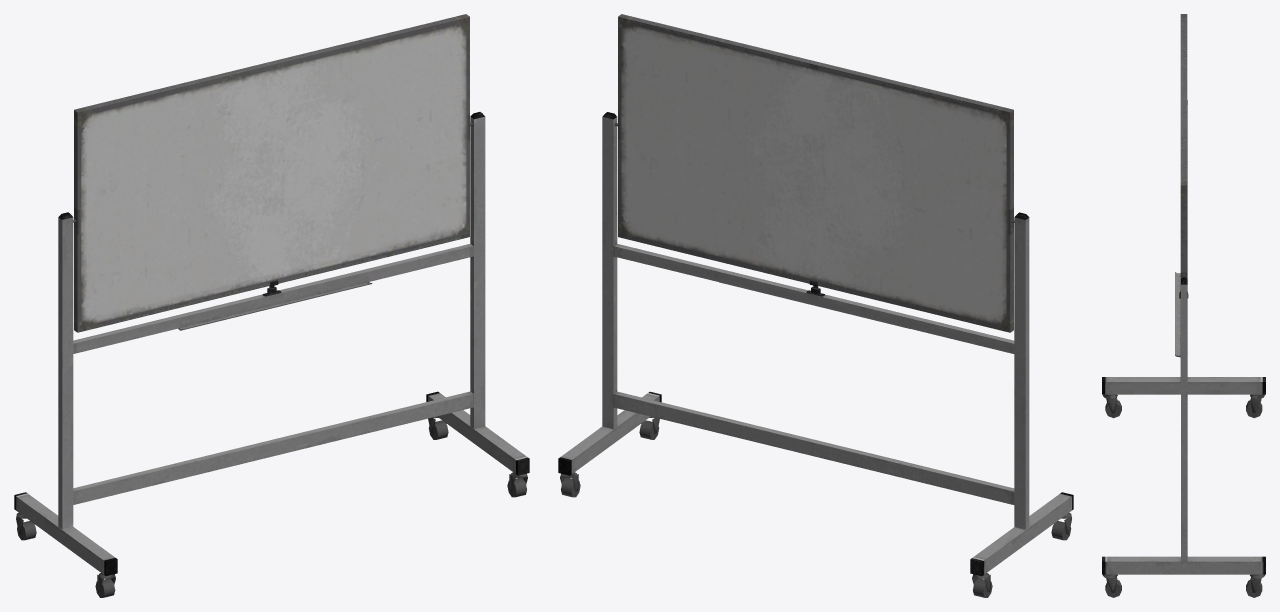
The model's file is 054_WhiteBoard.fbx.
3 views of the same model, side by side, from view 1: azimuth 30°, elevation 25°; view 2: azimuth 150°, elevation 25°; view 3: azimuth 270°, elevation 25° (orthographic). The views are drawn at different scales.
Parts seen in each view (by area): view 1: LOD_1_Group_0_Sub_1__sm30_054_WhiteBoard01A_A_Mat, LOD_1_Group_3_Sub_1__sm30_054_WhiteBoard01A_A_Mat, LOD_1_Group_2_Sub_1__sm30_054_WhiteBoard01A_A_Mat, LOD_1_Group_4_Sub_1__sm30_054_WhiteBoard01A_A_Mat, LOD_1_Group_5_Sub_1__sm30_054_WhiteBoard01A_A_Mat, LOD_1_Group_1_Sub_1__sm30_054_WhiteBoard01A_A_Mat; view 2: LOD_1_Group_0_Sub_1__sm30_054_WhiteBoard01A_A_Mat, LOD_1_Group_3_Sub_1__sm30_054_WhiteBoard01A_A_Mat, LOD_1_Group_2_Sub_1__sm30_054_WhiteBoard01A_A_Mat, LOD_1_Group_4_Sub_1__sm30_054_WhiteBoard01A_A_Mat, LOD_1_Group_5_Sub_1__sm30_054_WhiteBoard01A_A_Mat; view 3: LOD_1_Group_4_Sub_1__sm30_054_WhiteBoard01A_A_Mat, LOD_1_Group_0_Sub_1__sm30_054_WhiteBoard01A_A_Mat, LOD_1_Group_2_Sub_1__sm30_054_WhiteBoard01A_A_Mat, LOD_1_Group_6_Sub_1__sm30_054_WhiteBoard01A_A_Mat, LOD_1_Group_5_Sub_1__sm30_054_WhiteBoard01A_A_Mat, LOD_1_Group_1_Sub_1__sm30_054_WhiteBoard01A_A_Mat.
Part boxes in pixels (bbox=[...]): LOD_1_Group_0_Sub_1__sm30_054_WhiteBoard01A_A_Mat: bbox=[74, 14, 469, 332]; LOD_1_Group_3_Sub_1__sm30_054_WhiteBoard01A_A_Mat: bbox=[73, 243, 473, 504]; LOD_1_Group_2_Sub_1__sm30_054_WhiteBoard01A_A_Mat: bbox=[58, 112, 485, 529]; LOD_1_Group_4_Sub_1__sm30_054_WhiteBoard01A_A_Mat: bbox=[14, 391, 529, 575]; LOD_1_Group_5_Sub_1__sm30_054_WhiteBoard01A_A_Mat: bbox=[17, 420, 526, 597]; LOD_1_Group_1_Sub_1__sm30_054_WhiteBoard01A_A_Mat: bbox=[73, 122, 472, 330]; LOD_1_Group_0_Sub_1__sm30_054_WhiteBoard01A_A_Mat: bbox=[618, 14, 1013, 332]; LOD_1_Group_3_Sub_1__sm30_054_WhiteBoard01A_A_Mat: bbox=[613, 244, 1014, 504]; LOD_1_Group_2_Sub_1__sm30_054_WhiteBoard01A_A_Mat: bbox=[602, 112, 1029, 529]; LOD_1_Group_4_Sub_1__sm30_054_WhiteBoard01A_A_Mat: bbox=[558, 391, 1073, 576]; LOD_1_Group_5_Sub_1__sm30_054_WhiteBoard01A_A_Mat: bbox=[561, 420, 1071, 597]; LOD_1_Group_4_Sub_1__sm30_054_WhiteBoard01A_A_Mat: bbox=[1102, 377, 1265, 574]; LOD_1_Group_0_Sub_1__sm30_054_WhiteBoard01A_A_Mat: bbox=[1180, 14, 1187, 381]; LOD_1_Group_2_Sub_1__sm30_054_WhiteBoard01A_A_Mat: bbox=[1181, 100, 1187, 561]; LOD_1_Group_6_Sub_1__sm30_054_WhiteBoard01A_A_Mat: bbox=[1103, 394, 1264, 593]; LOD_1_Group_5_Sub_1__sm30_054_WhiteBoard01A_A_Mat: bbox=[1105, 400, 1262, 597]; LOD_1_Group_1_Sub_1__sm30_054_WhiteBoard01A_A_Mat: bbox=[1175, 272, 1188, 357].
Size of the model in its own units: 1.93 by 1.95 by 0.7142.
